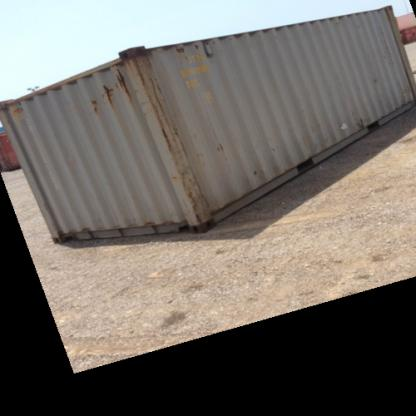Damage: (137, 55, 206, 223), (86, 66, 134, 114), (334, 109, 375, 130), (377, 18, 393, 62), (5, 99, 28, 119), (210, 136, 228, 159), (252, 162, 264, 188)
